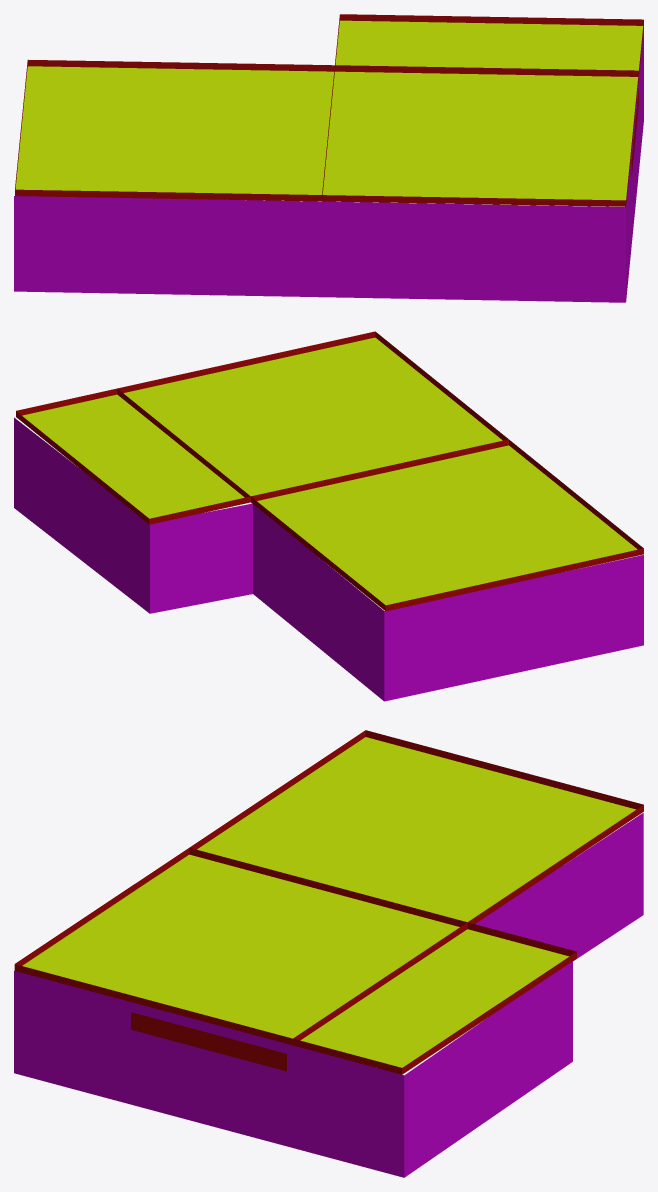
File: bgj_112.glb
The picture shows the model from 3 angles, top to bottom: view 1: azimuth 30°, elevation 25°; view 2: azimuth 150°, elevation 25°; view 3: azimuth 270°, elevation 25°; orthographic projection. The views are drawn at different scales.
Visible parts, largest first — view 1: bgj_112; view 2: bgj_112; view 3: bgj_112.
Boxes of the visible parts, x1,y1,x2,y2 form: bgj_112: [14, 14, 643, 302]; bgj_112: [14, 331, 643, 701]; bgj_112: [14, 730, 643, 1177].
Bounding box in the file's own units: 36.94 × 5.56 × 29.04.
